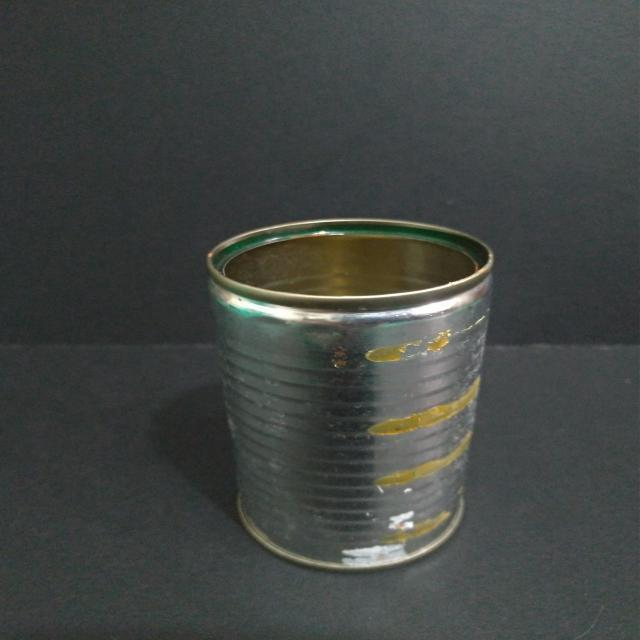metal: (198, 215, 498, 572)
